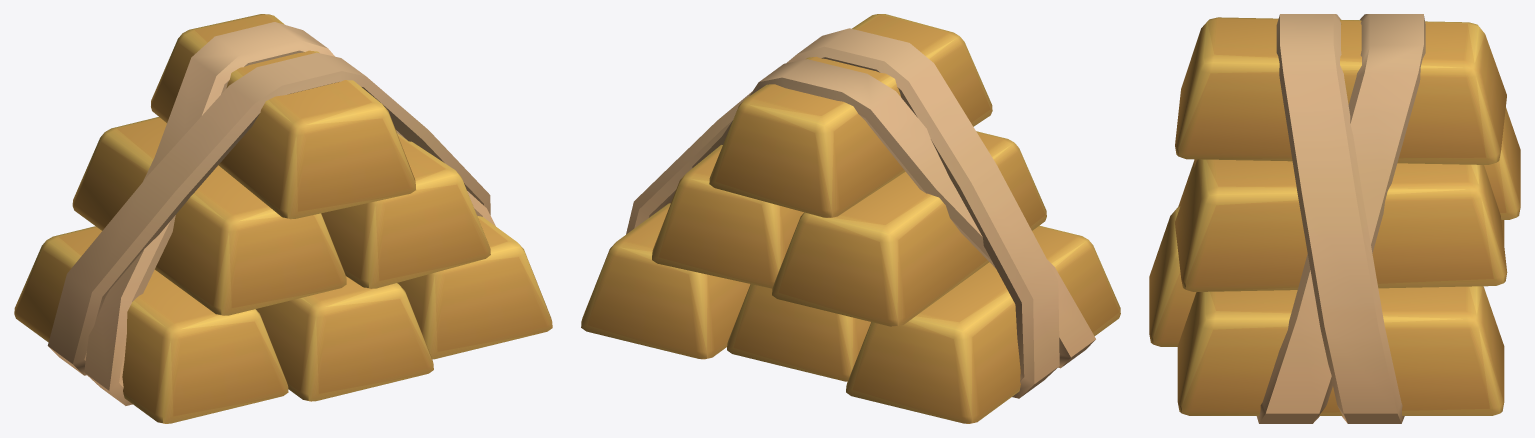
File: gold_bars.glb
3 renders of one model, left to right at view 1: azimuth 30°, elevation 25°; view 2: azimuth 150°, elevation 25°; view 3: azimuth 270°, elevation 25°, orthographic. The views are drawn at different scales.
Parts seen in each view (by area): view 1: Gold_Bars; view 2: Gold_Bars; view 3: Gold_Bars.
Boxes of the visible parts, x1,y1,x2,y2 form: Gold_Bars: (14, 14, 552, 423); Gold_Bars: (581, 14, 1120, 423); Gold_Bars: (1149, 14, 1520, 423).
Size of the model in its own units: 1.27 by 0.7897 by 0.9106.
1 material, 1 textured.
